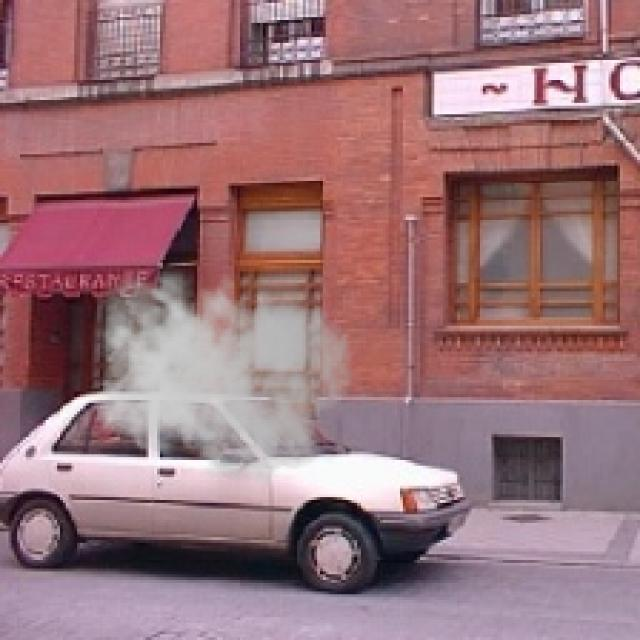smoke: (86, 257, 354, 489)
